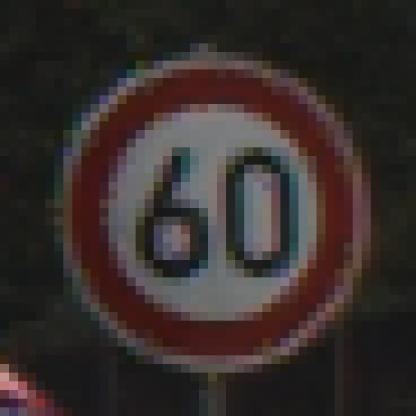Speed Limit 60: (70, 59, 354, 365)
